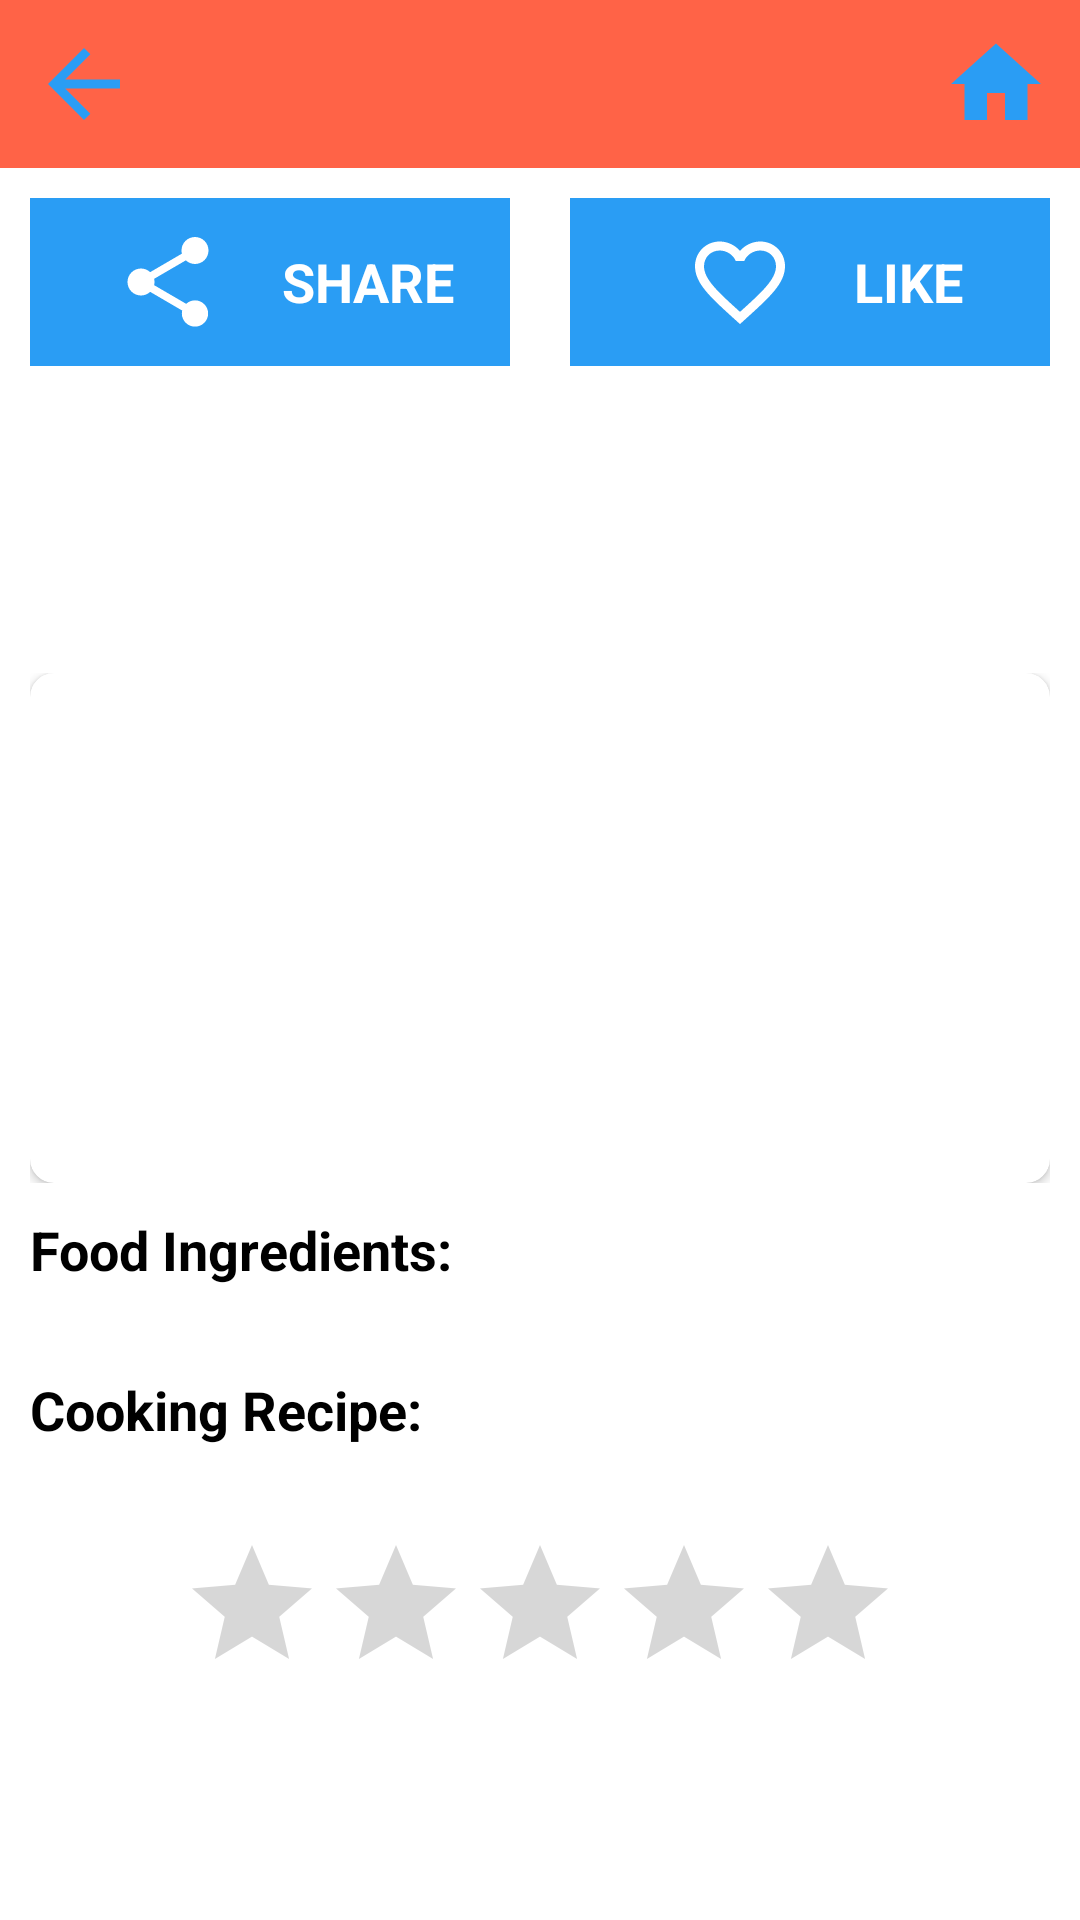

Screen size 1080w x 1920h. Icon name, then its center in pixels as (x,y):
back: (84,84)
home: (996,81)
